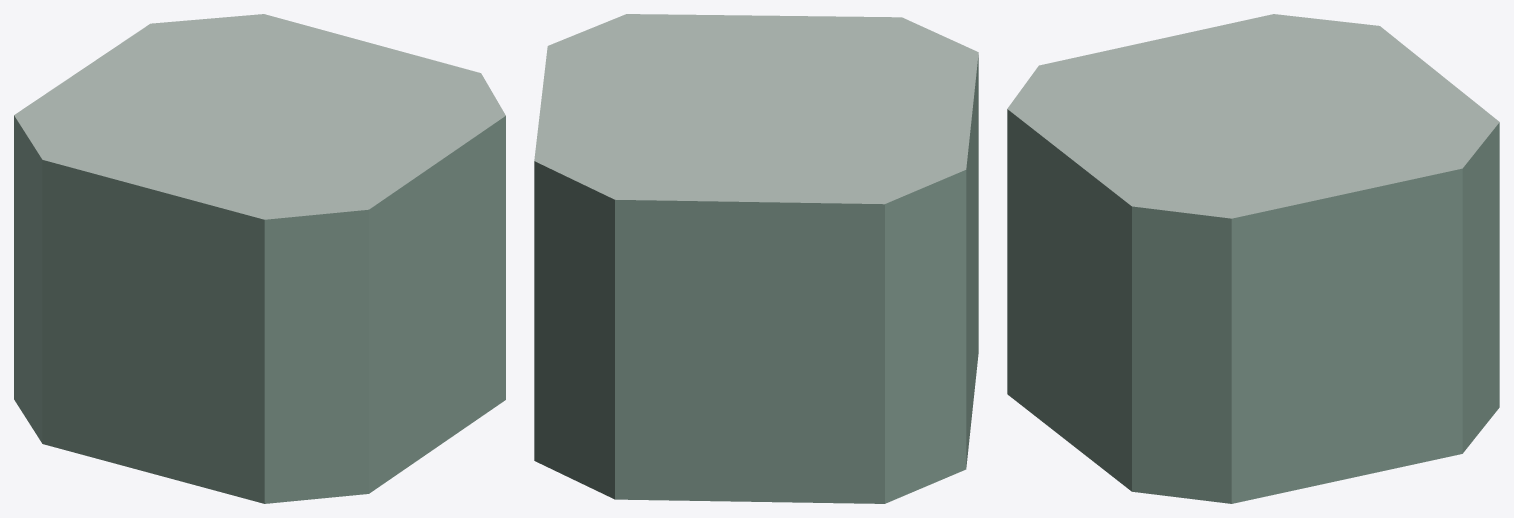
Rendered from nyc-1090910-0.glb.
3 views of the same model, side by side, from view 1: azimuth 30°, elevation 25°; view 2: azimuth 150°, elevation 25°; view 3: azimuth 270°, elevation 25° (orthographic). The views are drawn at different scales.
Parts seen in each view (by area): view 1: nyc-1090910-0; view 2: nyc-1090910-0; view 3: nyc-1090910-0.
Part boxes in pixels (x1,y1,x2,y2): nyc-1090910-0: (14,14,505,503); nyc-1090910-0: (534,14,978,503); nyc-1090910-0: (1007,14,1499,503).
Bounding box in the file's own units: 7.03 × 4.57 × 7.15.
